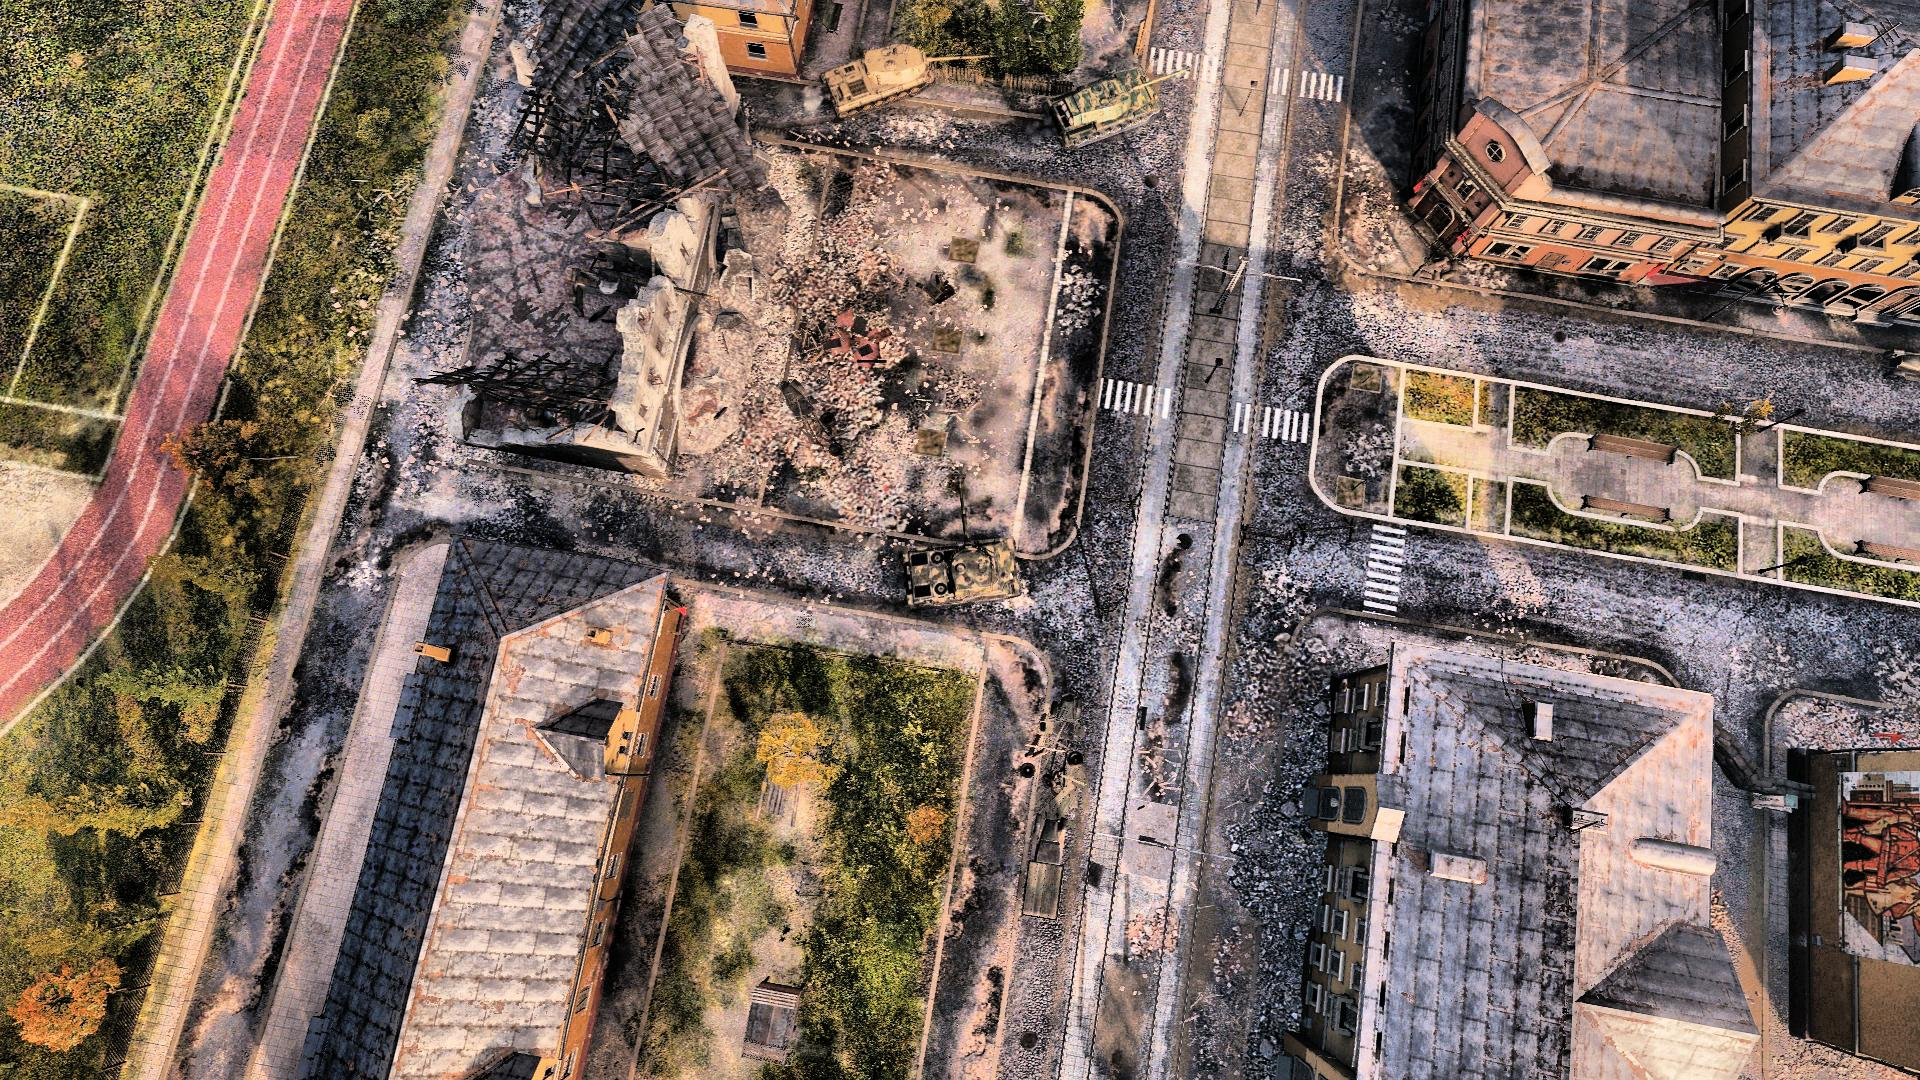military-vehicle: (901, 469, 1023, 611), (819, 44, 993, 116), (1040, 67, 1183, 145)
